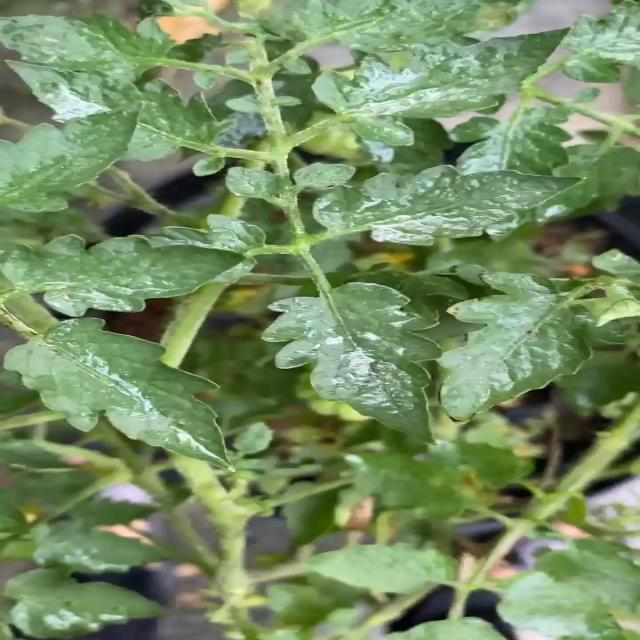Tomato_Healthy: (20, 331, 228, 491), (264, 283, 444, 458), (311, 159, 590, 245), (449, 269, 608, 416), (0, 233, 245, 324)
